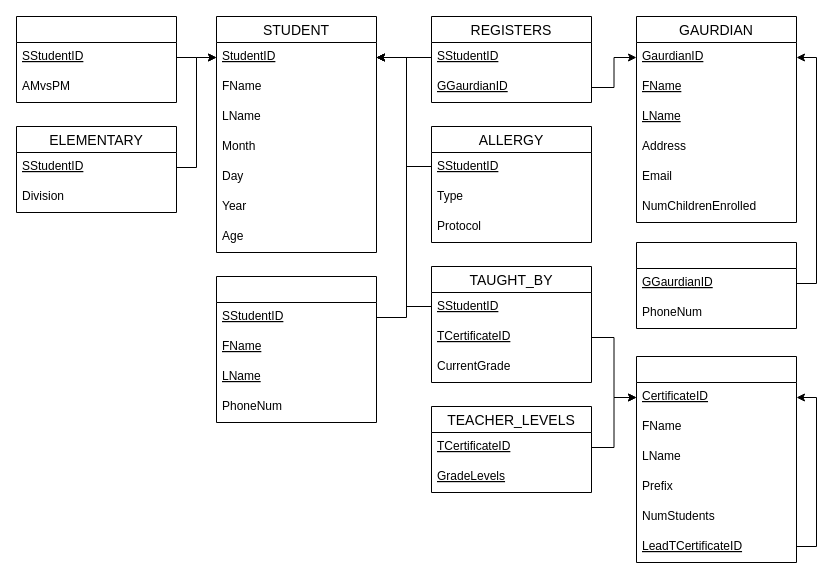
This 833x579 diagram has some shape labels left out. Here are the shapes that lost their labels. From the top down, the box of each, then its label:
(16, 16, 176, 102): KINDERGARDEN
(636, 242, 796, 328): GAURDIAN_NUMBER
(216, 276, 376, 422): CONTACT
(636, 356, 796, 562): TEACHER
